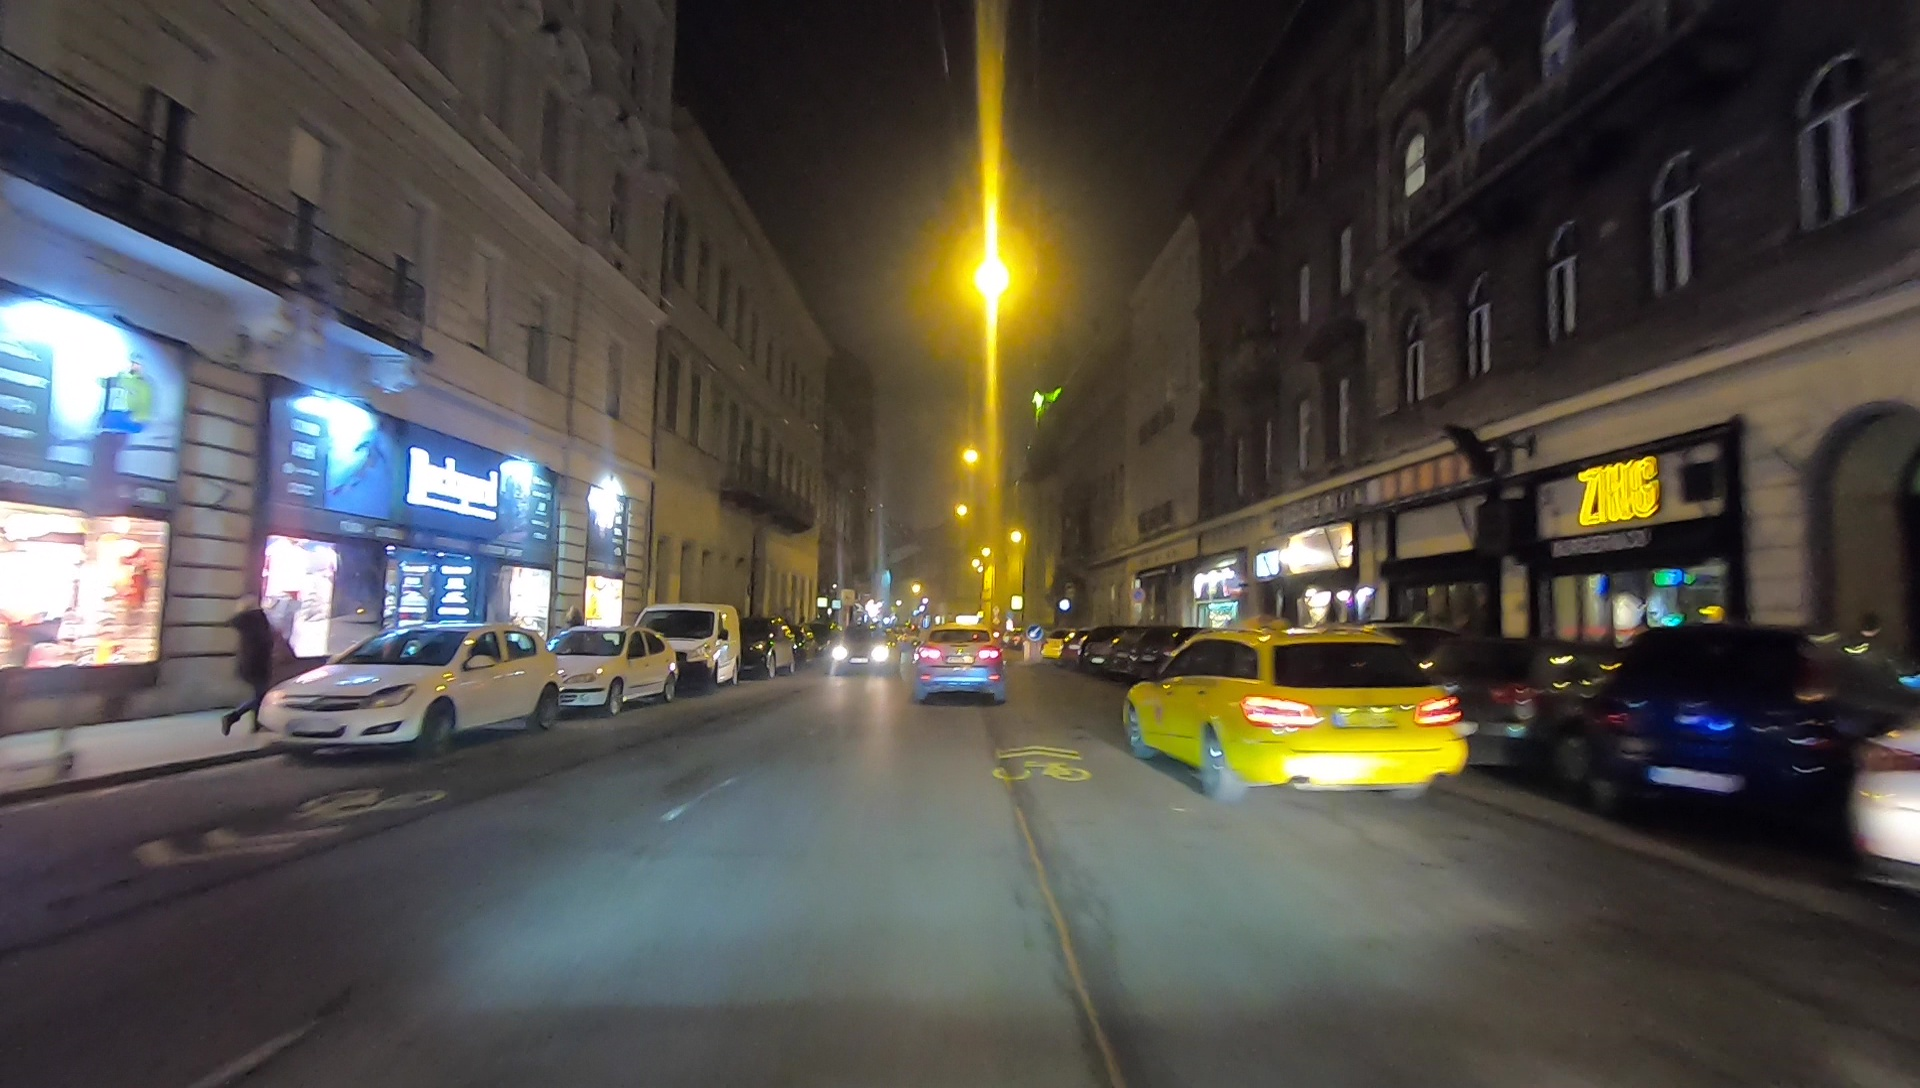person: (217, 599, 271, 730)
